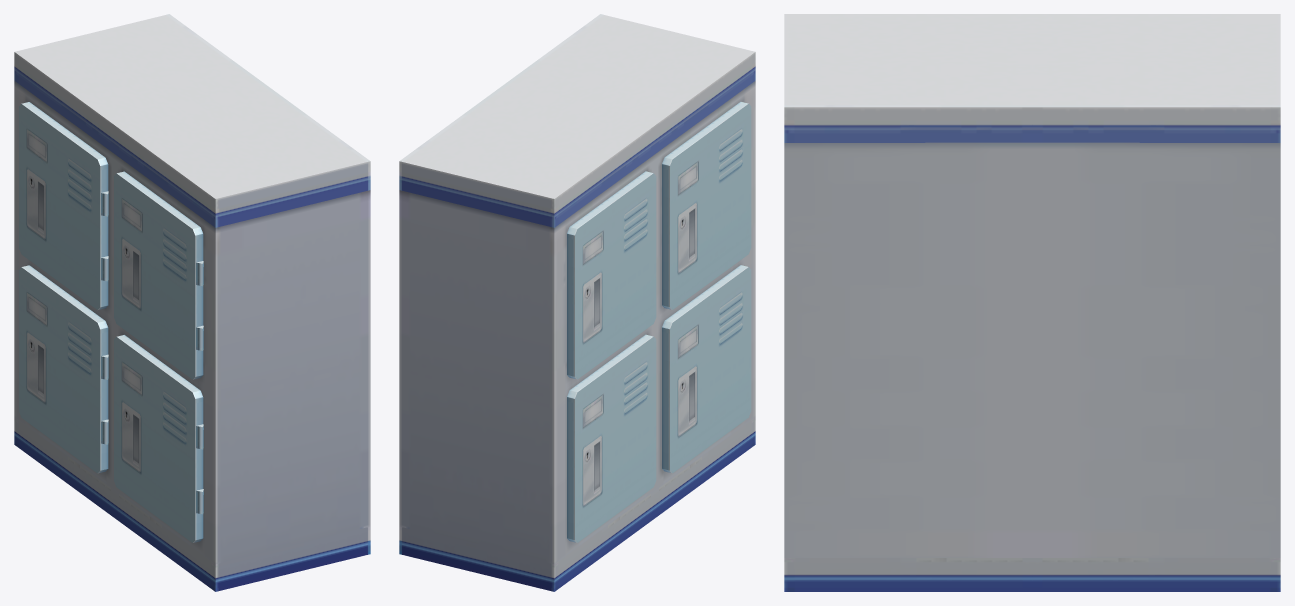
File: my_abydosclassroom_01_cabinet_02.glb
3 renders of one model, left to right at view 1: azimuth 30°, elevation 25°; view 2: azimuth 150°, elevation 25°; view 3: azimuth 270°, elevation 25°, orthographic. The views are drawn at different scales.
Visible parts, largest first — view 1: my_abydosclassroom_01_cabinet_02; view 2: my_abydosclassroom_01_cabinet_02; view 3: my_abydosclassroom_01_cabinet_02.
Part boxes in pixels (<box>): my_abydosclassroom_01_cabinet_02: <box>14,14,370,591</box>; my_abydosclassroom_01_cabinet_02: <box>399,14,755,591</box>; my_abydosclassroom_01_cabinet_02: <box>784,14,1280,591</box>.
Size of the model in its own units: 0.00281 by 0.00647 by 0.006.
Materials: 1 (1 with a texture image).
